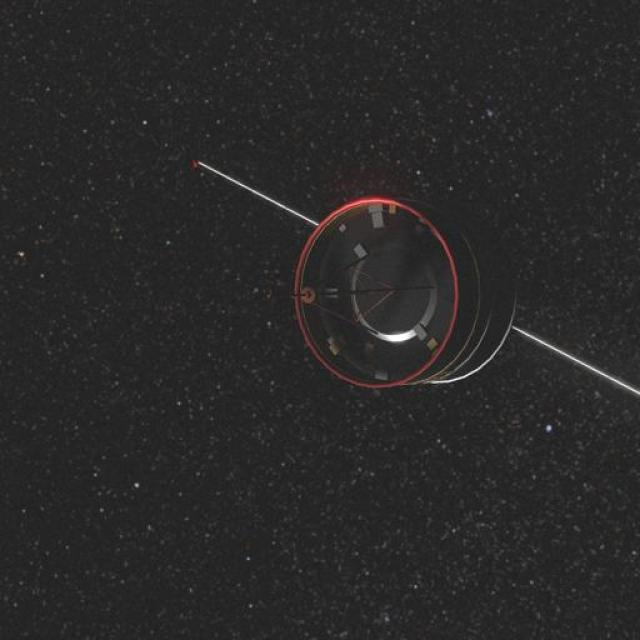double_start: (267, 149, 552, 430)
